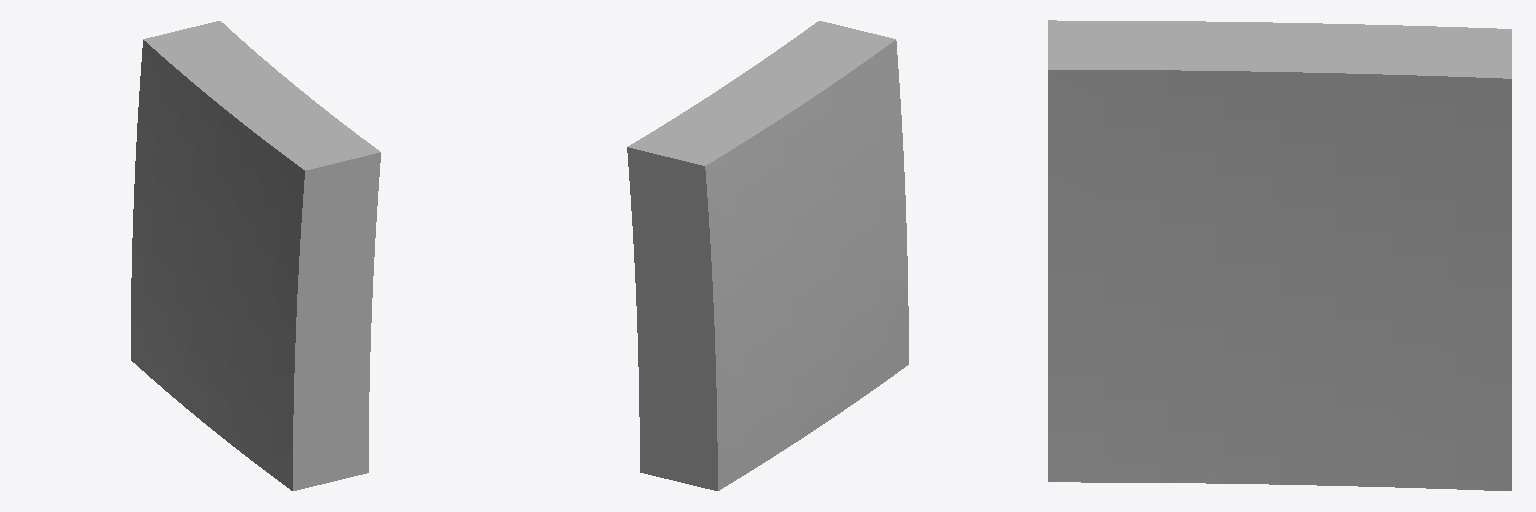
The robot description file, URDF, robot "root":
<?xml version='1.0' encoding='utf-8'?>
<robot name="root">
  <link name="link_001">
    <visual>
      <origin xyz="0 0 0" rpy="0 0 0" />
      <geometry>
        <mesh filename="ee9b4c53c690bfaed54c14deb50a4714da2c38ad873e5eb3ac25592508365091_scale_011.stl" scale="1.0000E+00 1.0000E+00 1.0000E+00" />
      </geometry>
      <material name="">
        <color rgba="7.50E-01 7.50E-01 7.50E-01 1" />
      </material>
    </visual>
    <collision>
      <origin xyz="0 0 0" rpy="0 0 0" />
      <geometry>
        <mesh filename="ee9b4c53c690bfaed54c14deb50a4714da2c38ad873e5eb3ac25592508365091_scale_011.stl" scale="1.0000E+00 1.0000E+00 1.0000E+00" />
      </geometry>
    </collision>
  </link>
</robot>

--- Render facts (derived) ---
The picture shows the robot from 3 angles, left to right: view 1: azimuth 30°, elevation 25°; view 2: azimuth 150°, elevation 25°; view 3: azimuth 270°, elevation 25°; orthographic projection.
Model root with 1 links and 0 joints (none), rooted at link_001, posed every joint at zero.
Links seen in each view (by area): view 1: link_001; view 2: link_001; view 3: link_001.
Link boxes in pixels (x1,y1,x2,y2): link_001: (131,21,380,490); link_001: (627,21,908,490); link_001: (1048,20,1511,490).
Bounding box of the posed robot: 0.0367 × 0.1085 × 0.1085 m (x, y, z).
1 mesh visuals loaded from 1 distinct referenced files (1 binary STL).
